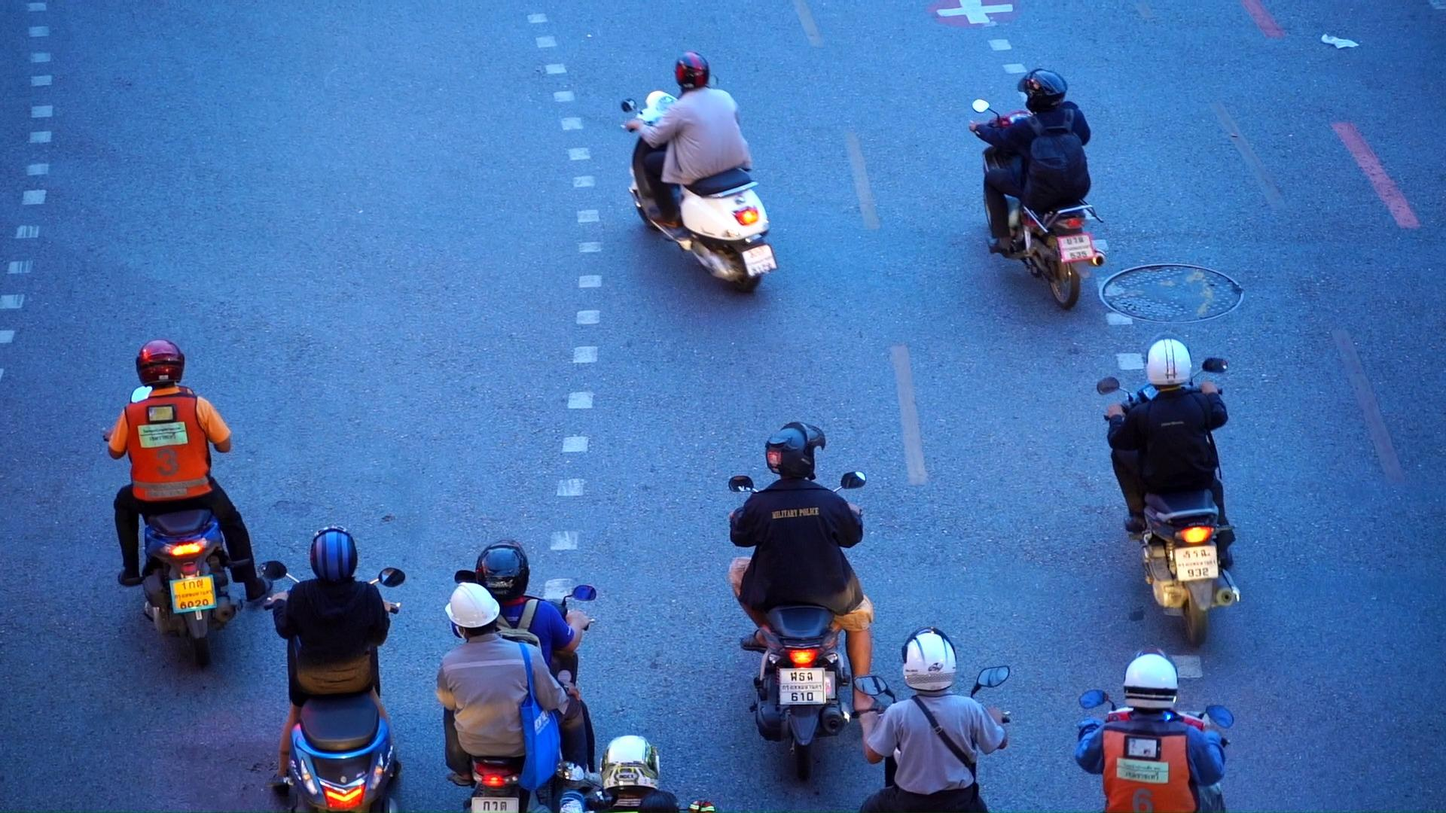driver: (729, 422, 889, 779), (102, 339, 273, 668), (1096, 331, 1243, 646), (435, 540, 601, 813), (258, 525, 405, 813), (621, 51, 777, 293), (969, 69, 1106, 311), (851, 626, 1010, 813), (1078, 644, 1235, 813), (557, 734, 716, 813)
helmet: (1123, 644, 1179, 714), (600, 734, 660, 796), (901, 627, 958, 692), (764, 422, 826, 481), (475, 540, 530, 603), (445, 582, 500, 640), (308, 526, 359, 585), (1146, 331, 1192, 391), (1017, 69, 1068, 116), (136, 339, 185, 387), (675, 51, 709, 90)
